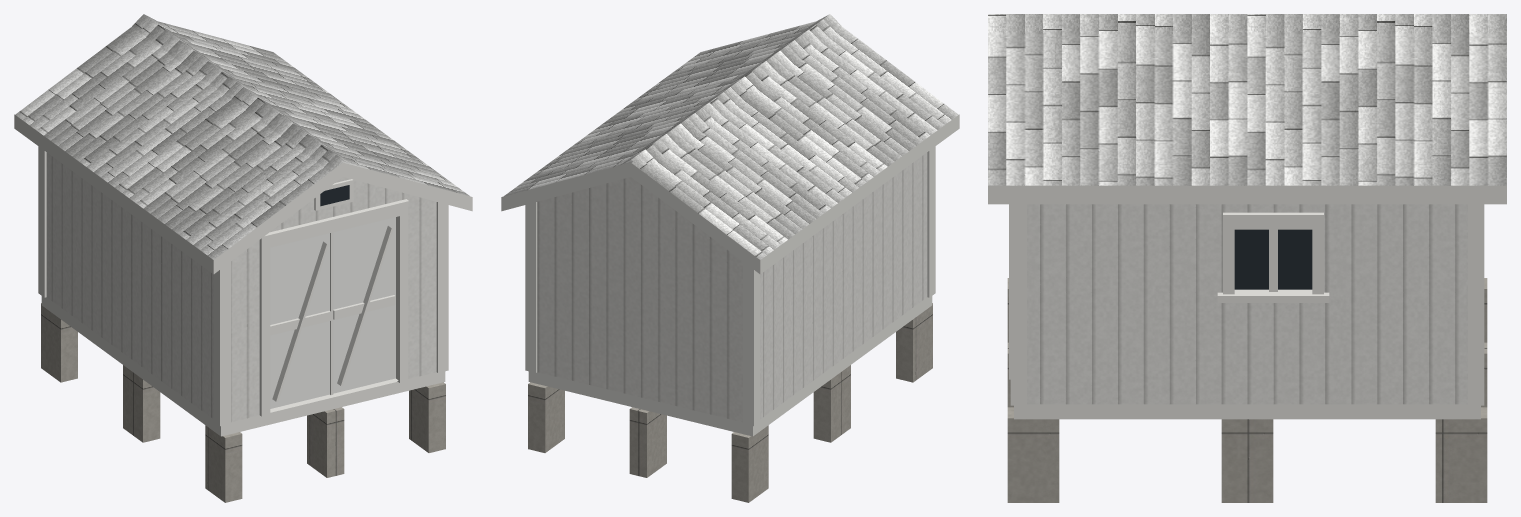
The model's file is shed.glb.
3 renders of one model, left to right at view 1: azimuth 30°, elevation 25°; view 2: azimuth 150°, elevation 25°; view 3: azimuth 270°, elevation 25°, orthographic. The views are drawn at different scales.
Visible parts, largest first — view 1: shed; view 2: shed; view 3: shed.
Part boxes in pixels (left/top/right/bottom): shed: left=14, top=14, right=472, bottom=502; shed: left=501, top=14, right=959, bottom=502; shed: left=988, top=14, right=1506, bottom=502.
Size of the model in its own units: 3 by 3.56 by 4.
Materials: 6 (3 with a texture image).
